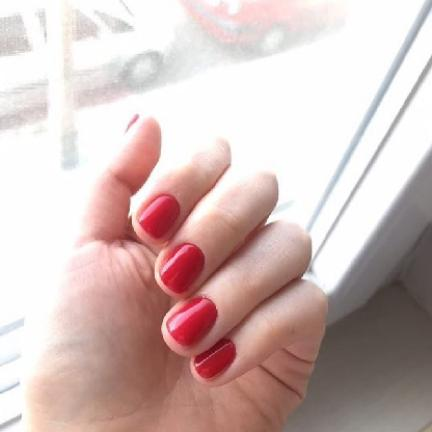Nail: (166, 296, 218, 346), (159, 243, 205, 294), (138, 194, 180, 238), (194, 338, 236, 379)
